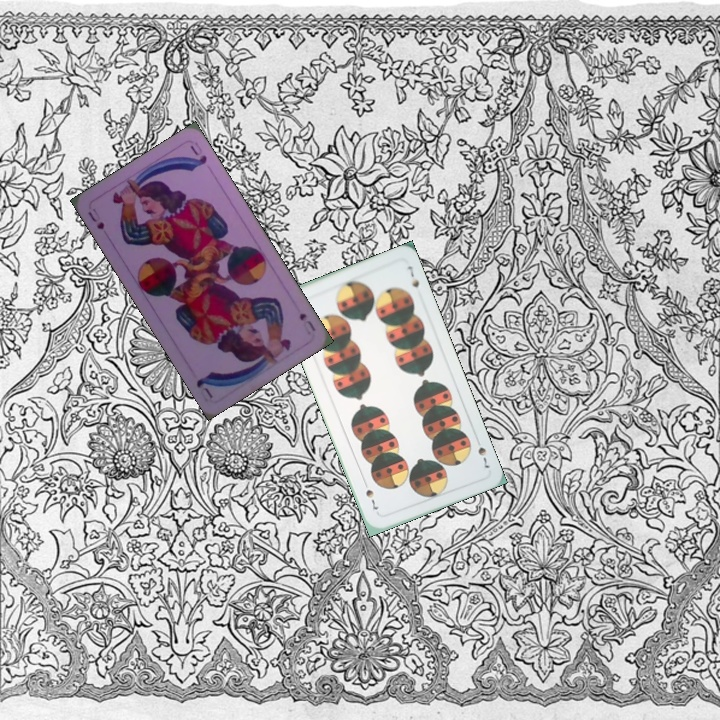S7: (472, 433, 493, 471)
SU: (295, 309, 318, 337), (84, 204, 107, 232)
